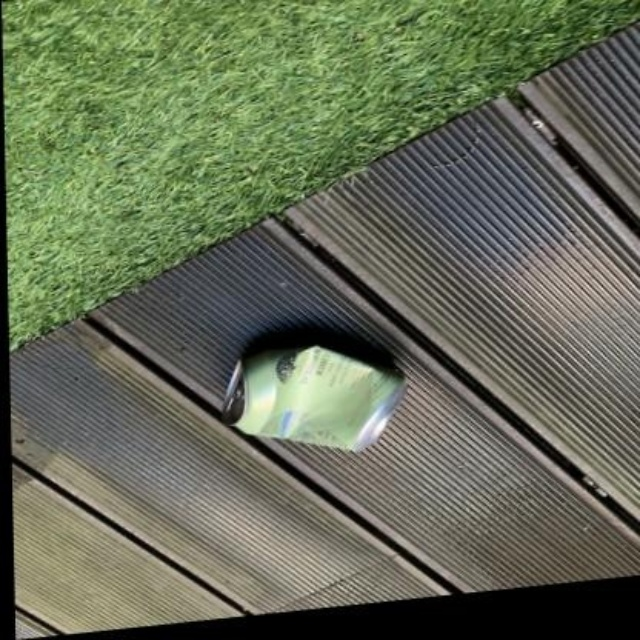trash: (223, 345, 403, 449)
